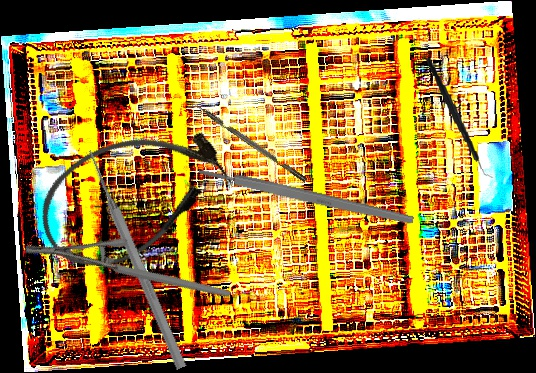Cannula: (20, 102, 246, 289)
Chopper: (186, 98, 308, 189), (424, 52, 496, 184)
Needle Holder: (22, 187, 232, 357)
Pusher: (82, 147, 190, 371)
Scalpel Handle: (197, 164, 415, 227)
